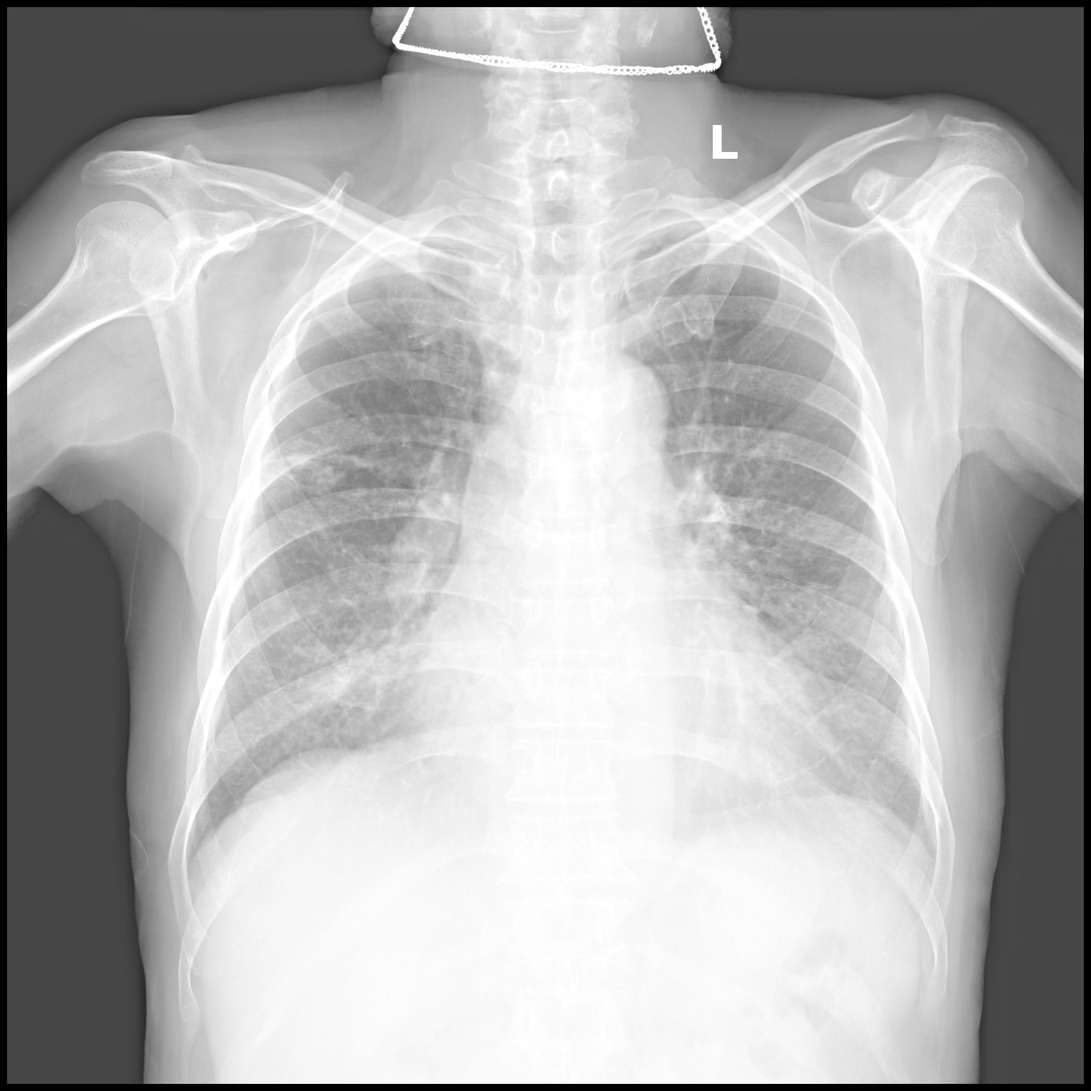Aortic enlargement: (561, 347, 669, 465)
Cardiomegaly: (406, 634, 831, 802)
Pleural thickening: (613, 214, 755, 251), (370, 231, 493, 256)
Pulmonary fibrosis: (270, 436, 393, 487)
